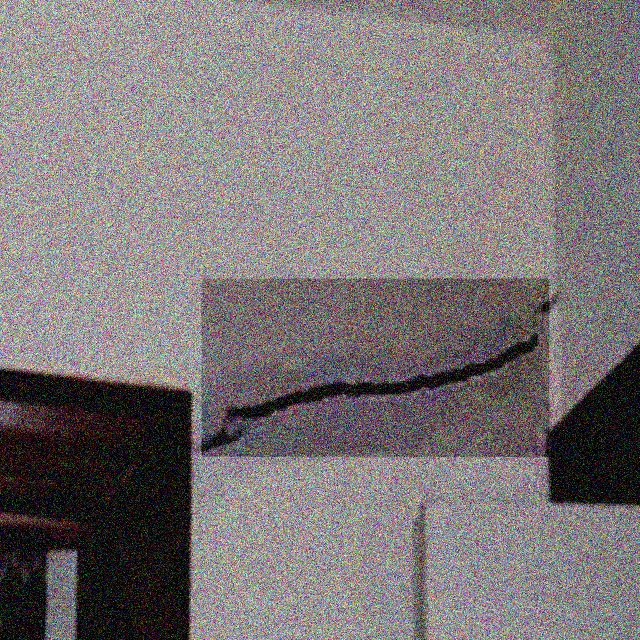SurfaceCrack: (200, 276, 584, 488)
